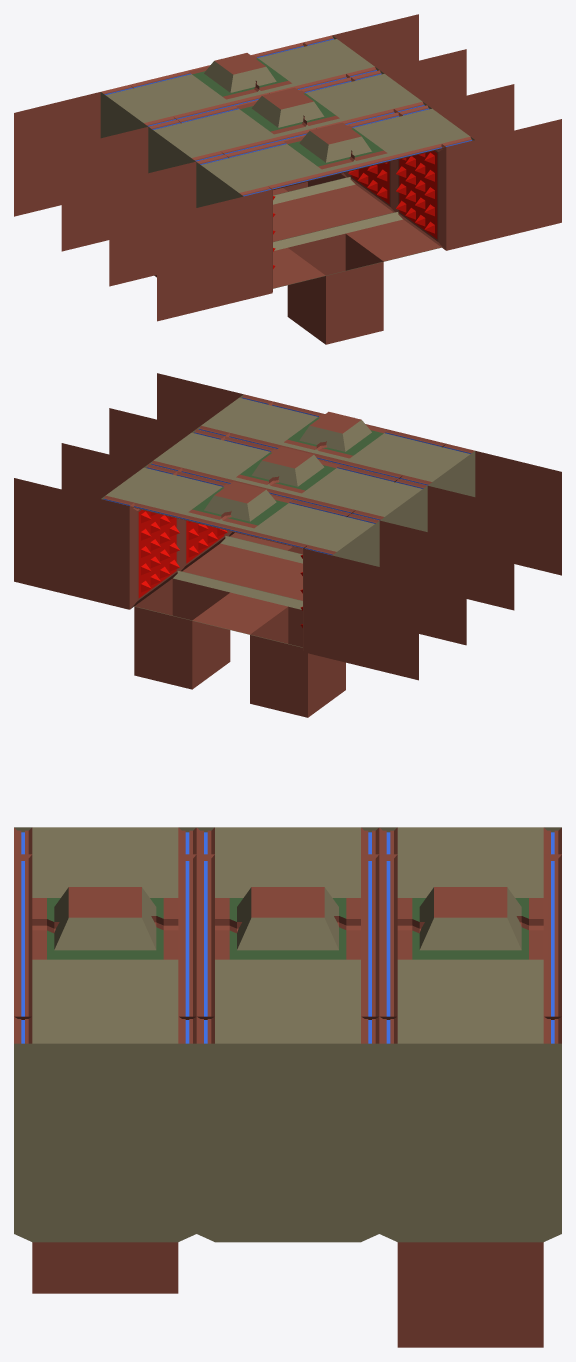
Rendered from Dragonfly_Crusher_MainRoomSlice.fbx.
The picture shows the model from 3 angles, top to bottom: view 1: azimuth 30°, elevation 25°; view 2: azimuth 150°, elevation 25°; view 3: azimuth 270°, elevation 25°; orthographic projection. The views are drawn at different scales.
Parts seen in each view (by area): view 1: Crusher_Room_Slice, CrusherWall_Right.002, CrusherWall_Left.002, CrusherWall_Left, CrusherWall_Left.001, CrusherWall_Right, CrusherWall_Right.001, CrushRoomDoor_Left, CrushRoomDoor_Left.002, CrushRoomDoor_Left.001; view 2: Crusher_Room_Slice, CrusherWall_Right.001, CrusherWall_Left.001, CrusherWall_Left, CrusherWall_Left.002, CrusherWall_Right, CrusherWall_Right.002, CrushRoomDoor_Left.002, CrushRoomDoor_Left.001, CrushRoomDoor_Left; view 3: Crusher_Room_Slice, CrushRoomDoor_Right.002, CrushRoomDoor_Right.001, CrushRoomDoor_Right, CrushRoomDoor_Left.002, CrushRoomDoor_Left.001, CrushRoomDoor_Left.
Part boxes in pixels (left/top/right/bottom): Crusher_Room_Slice: left=100, top=35, right=474, bottom=344; CrusherWall_Right.002: left=396, top=85, right=561, bottom=250; CrusherWall_Left.002: left=109, top=155, right=275, bottom=321; CrusherWall_Left: left=61, top=120, right=224, bottom=284; CrusherWall_Left.001: left=14, top=85, right=176, bottom=247; CrusherWall_Right: left=348, top=49, right=514, bottom=212; CrusherWall_Right.001: left=303, top=14, right=466, bottom=177; CrushRoomDoor_Left: left=236, top=101, right=306, bottom=134; CrushRoomDoor_Left.002: left=284, top=136, right=354, bottom=169; CrushRoomDoor_Left.001: left=188, top=66, right=259, bottom=99; Crusher_Room_Slice: left=101, top=394, right=475, bottom=717; CrusherWall_Right.001: left=14, top=443, right=179, bottom=609; CrusherWall_Left.001: left=300, top=514, right=466, bottom=680; CrusherWall_Left: left=351, top=479, right=514, bottom=645; CrusherWall_Left.002: left=399, top=444, right=561, bottom=606; CrusherWall_Right: left=61, top=408, right=227, bottom=571; CrusherWall_Right.002: left=109, top=373, right=272, bottom=536; CrushRoomDoor_Left.002: left=316, top=417, right=387, bottom=458; CrushRoomDoor_Left.001: left=221, top=495, right=291, bottom=528; CrushRoomDoor_Left: left=269, top=460, right=339, bottom=493; Crusher_Room_Slice: left=14, top=827, right=561, bottom=1347; CrushRoomDoor_Right.002: left=32, top=917, right=178, bottom=959; CrushRoomDoor_Right.001: left=397, top=916, right=543, bottom=959; CrushRoomDoor_Right: left=215, top=916, right=360, bottom=959; CrushRoomDoor_Left.002: left=32, top=898, right=178, bottom=928; CrushRoomDoor_Left.001: left=397, top=898, right=543, bottom=928; CrushRoomDoor_Left: left=215, top=898, right=360, bottom=928.
Size of the model in its own units: 49 by 22 by 30.
